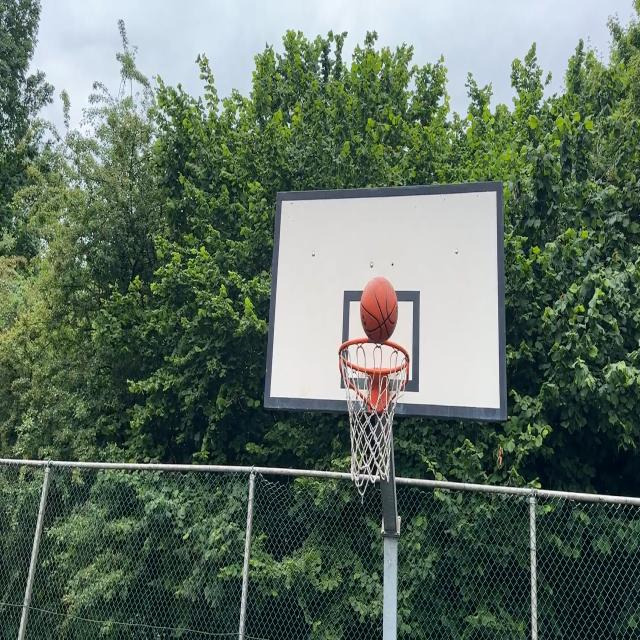rebound_hit: (360, 276, 397, 348)
